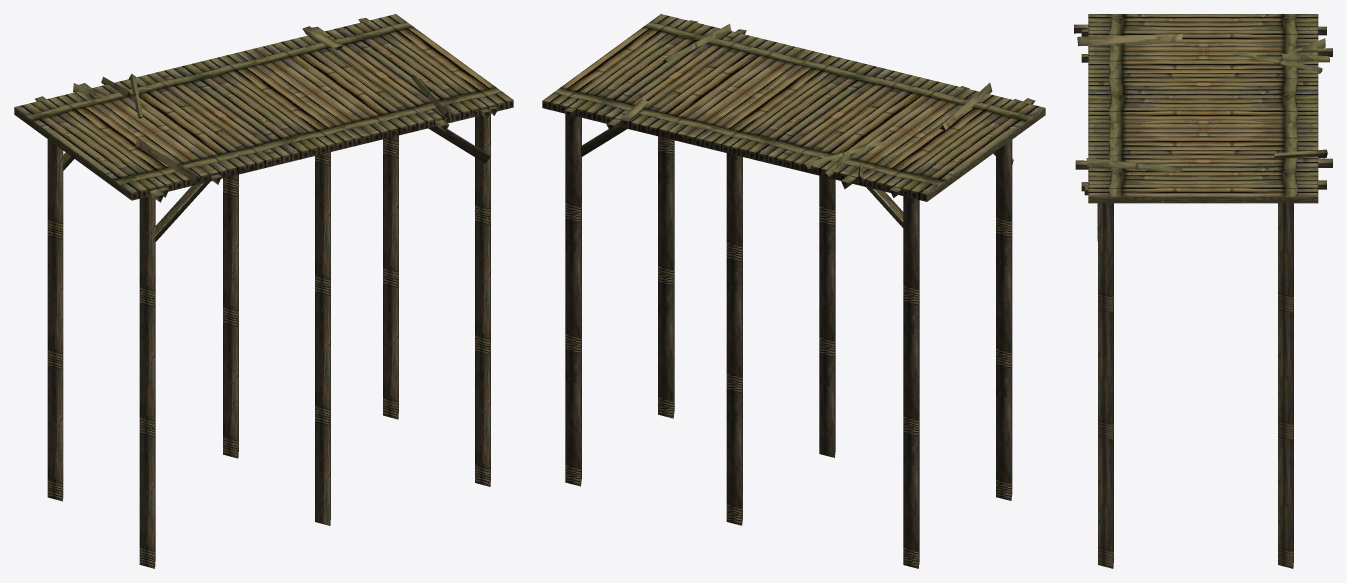
Rendered from muqiao_jx_40.FBX.
The picture shows the model from 3 angles, left to right: view 1: azimuth 30°, elevation 25°; view 2: azimuth 150°, elevation 25°; view 3: azimuth 270°, elevation 25°; orthographic projection. The views are drawn at different scales.
Parts seen in each view (by area): view 1: muqiao_jx_40; view 2: muqiao_jx_40; view 3: muqiao_jx_40.
Part boxes in pixels (x1,y1,x2,y2): muqiao_jx_40: [14, 14, 513, 568]; muqiao_jx_40: [542, 14, 1045, 568]; muqiao_jx_40: [1074, 14, 1332, 568].
Size of what is drawn, in the model's own units: 1500 by 1473 by 901.
